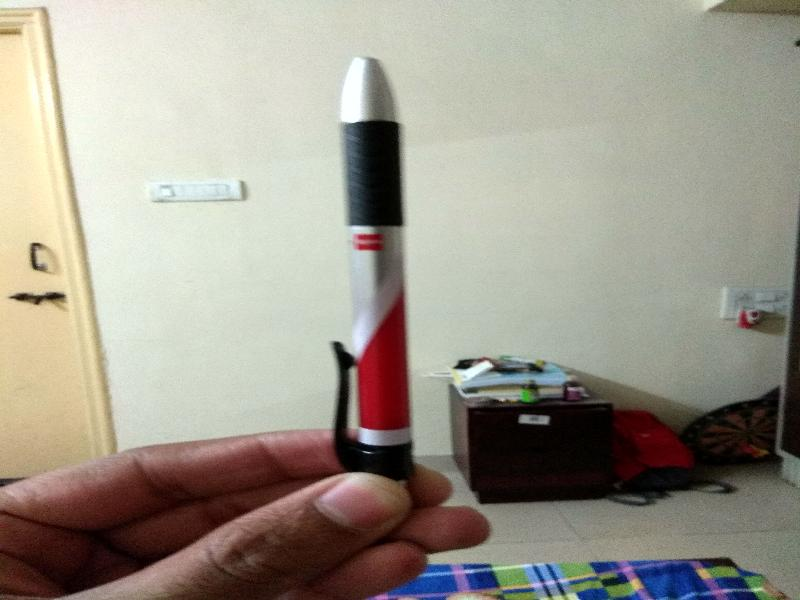pen: (327, 50, 425, 502)
